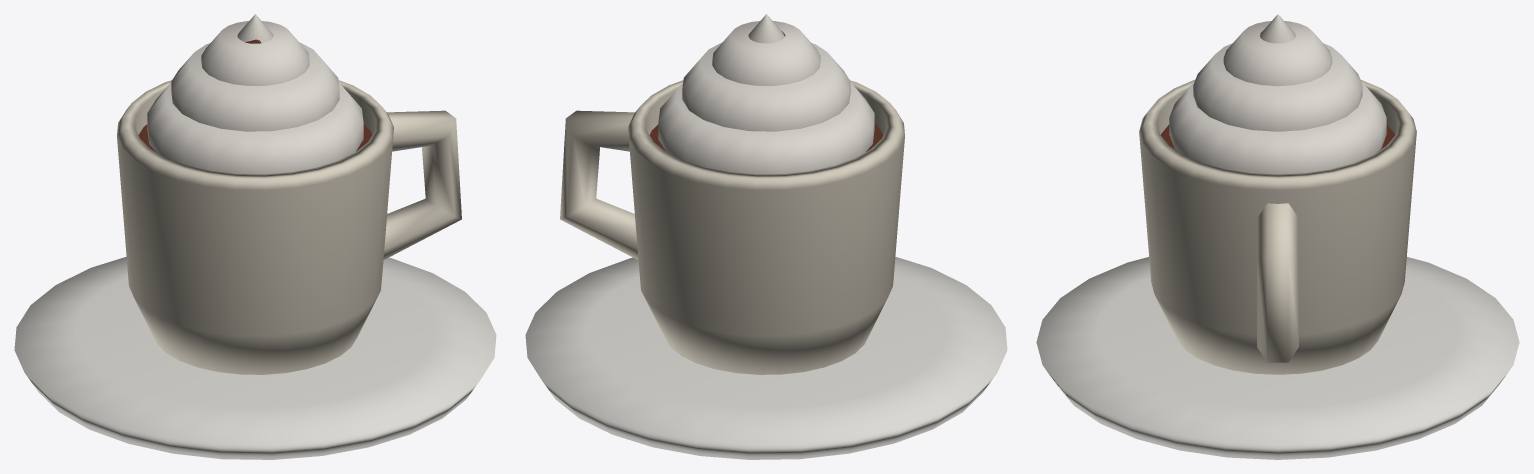
Rendered from item_drink_mocha.glb.
3 renders of one model, left to right at view 1: azimuth 30°, elevation 25°; view 2: azimuth 150°, elevation 25°; view 3: azimuth 270°, elevation 25°, orthographic.
Visible parts, largest first — view 1: item_drink_mocha_main; view 2: item_drink_mocha_main; view 3: item_drink_mocha_main.
Part boxes in pixels (box(x1,y1,x2,y2)): item_drink_mocha_main: box(14, 14, 496, 459); item_drink_mocha_main: box(525, 14, 1007, 459); item_drink_mocha_main: box(1036, 14, 1519, 459).
Bounding box in the file's own units: 0.16 × 0.128 × 0.16.
